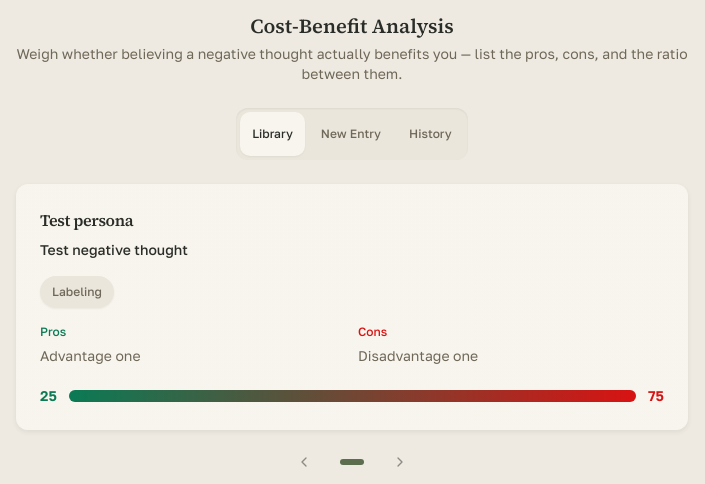
Test: CostBenefitAnalysisPage › renders the history tab with past entries
Step 1. Click the tab "History" → (430, 134), box 397,112 -> 464,156
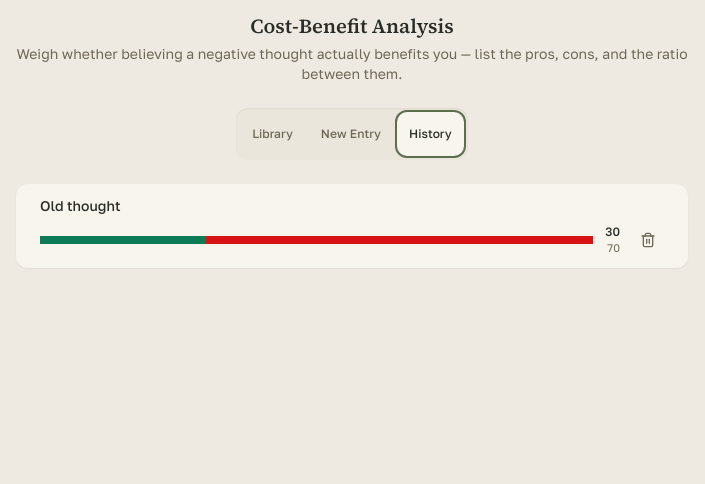
Now the text "Old thought" is shown, box 40,197 -> 120,214
